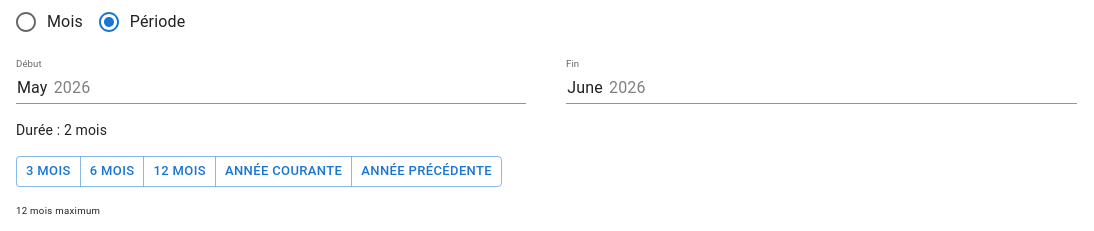
it: AnalysesFiltrePeriodeComponent › saisies et raccourcis complémentaires › saisie du champ Fin : seule la borne de fin change, la durée est recalculée
Replace the text in the field labelled "Fin" with "2026-07" at (821, 90), box [566,75,1077,104]
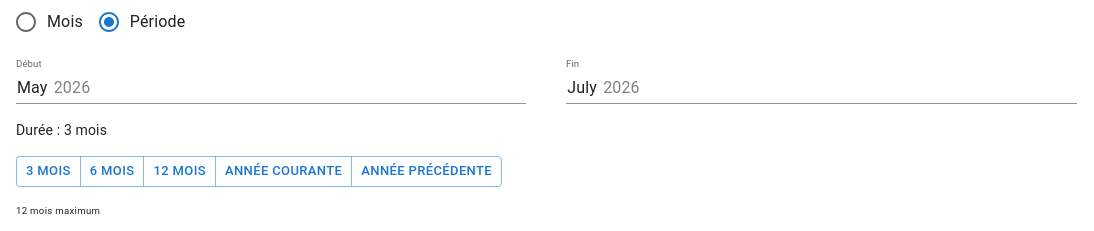
Now the text "Durée : 3 mois" is shown, box [16,122,107,138]
